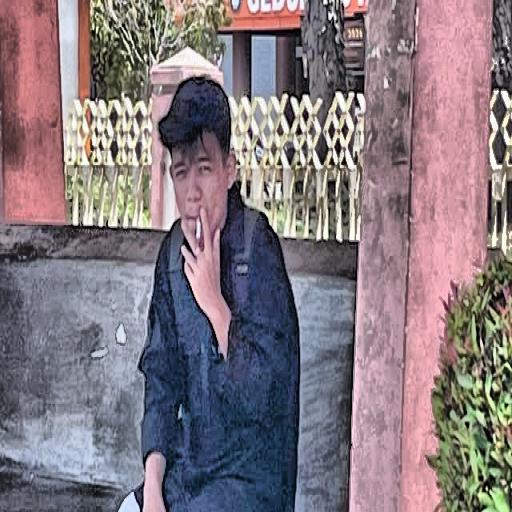Merokok: (195, 219, 200, 240)
Rokok: (186, 182, 206, 255)
